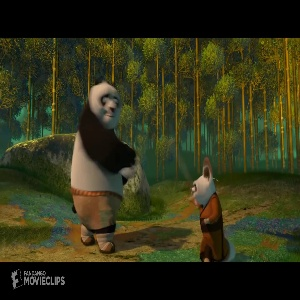po: (71, 75, 136, 254)
shifu: (183, 156, 238, 261)
